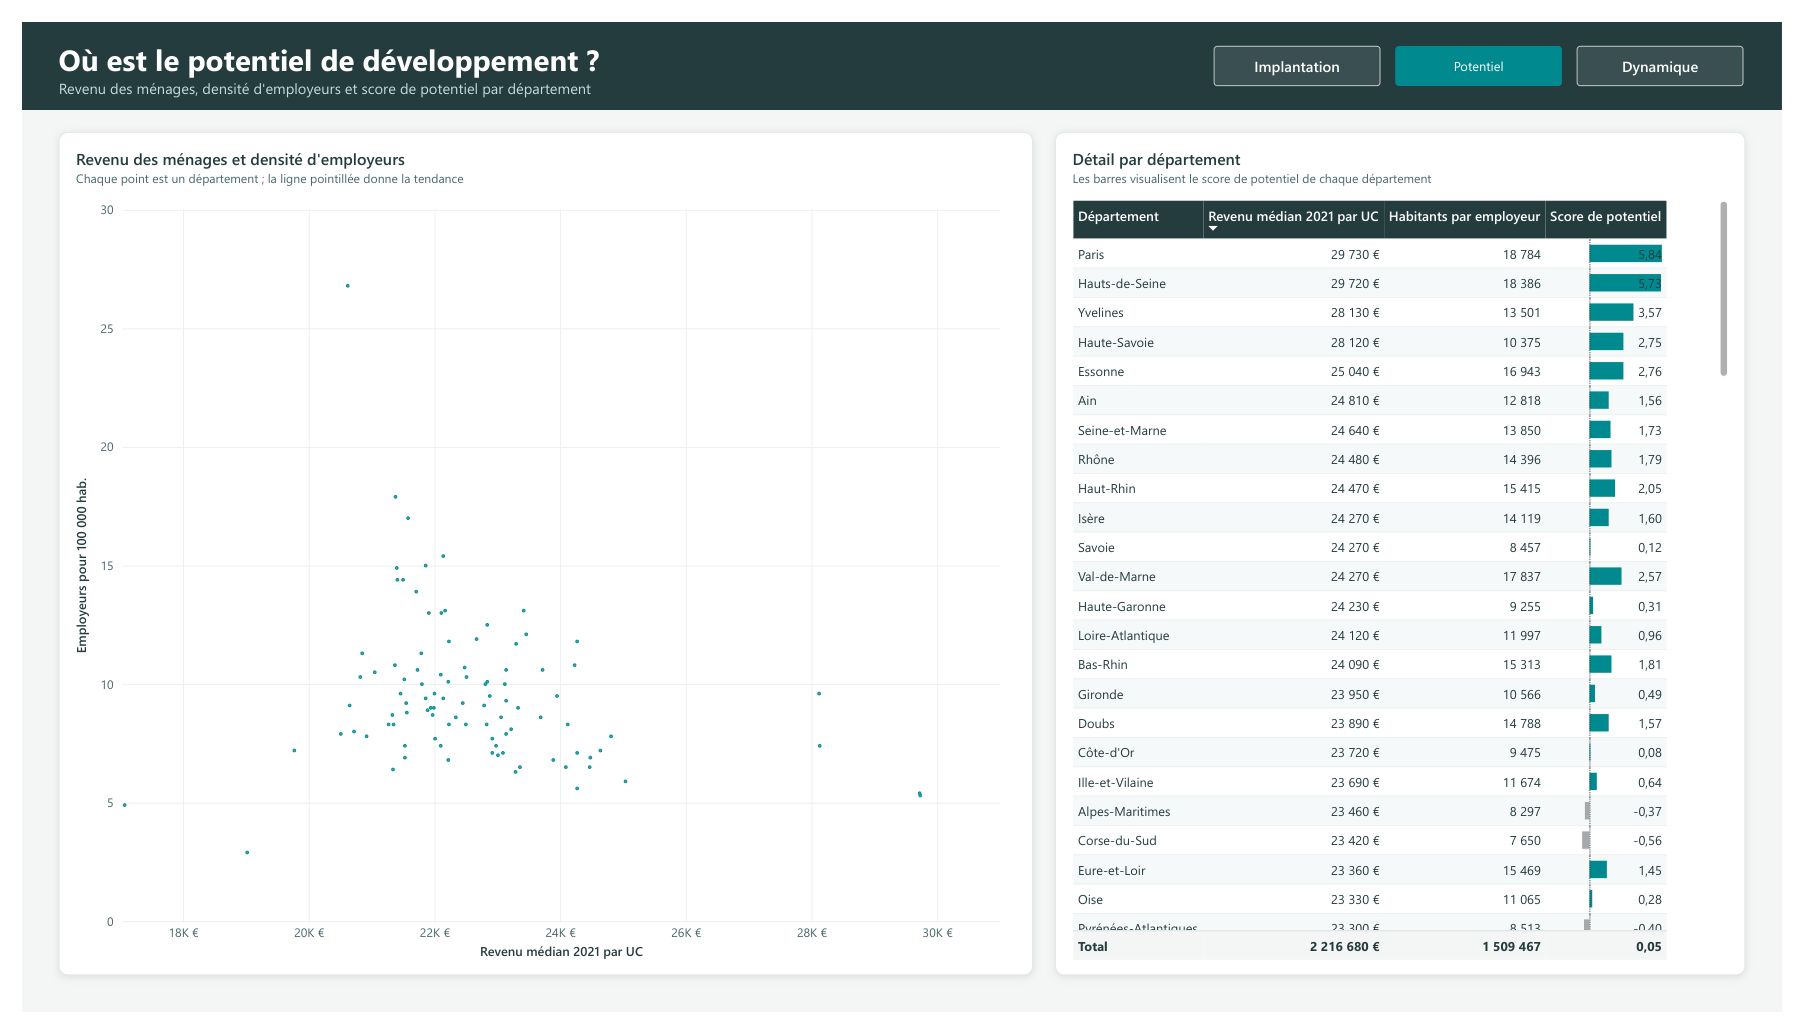

The page's visual inventory and layout, read from the dashboard file:
{"tool":"powerbi","page":{"name":"Potentiel","canvas":[1920,1080],"ordinal":1},"visuals":[{"type":"textbox","box":[0,0,1920,96],"z":0},{"type":"scatterChart","title":"Revenu des ménages et densité d''employeurs","fields":{"Category":["veto_departements_FR.departement"],"X":["Sum(veto_departements_FR.revenu_median_uc_2021)"],"Y":["Sum(veto_departements_FR.employeurs_pour_100k_hab)"]},"box":[40,120,1063.3,920],"z":10},{"type":"tableEx","title":"Détail par département","fields":{"Values":["veto_departements_FR.departement","Sum(veto_departements_FR.revenu_median_uc_2021)","Sum(veto_departements_FR.habitants_par_etab_employeur)","Sum(veto_departements_FR.score_potentiel)"]},"box":[1127.3,120,752.7,920],"z":11},{"type":"pageNavigator","box":[1300,26,580,44],"z":100}]}

Visuals, with their boxes in screenshot pixels (x1, y1, x2, y2), scaled from the page's 1920x1080 canvas onto the 1804x1034 screenshot:
textbox: locate(0, 0, 1803, 92)
"Revenu des ménages et densité d''employeurs" scatterChart: locate(38, 115, 1037, 996)
"Détail par département" tableEx: locate(1059, 115, 1766, 996)
pageNavigator: locate(1221, 25, 1766, 67)
